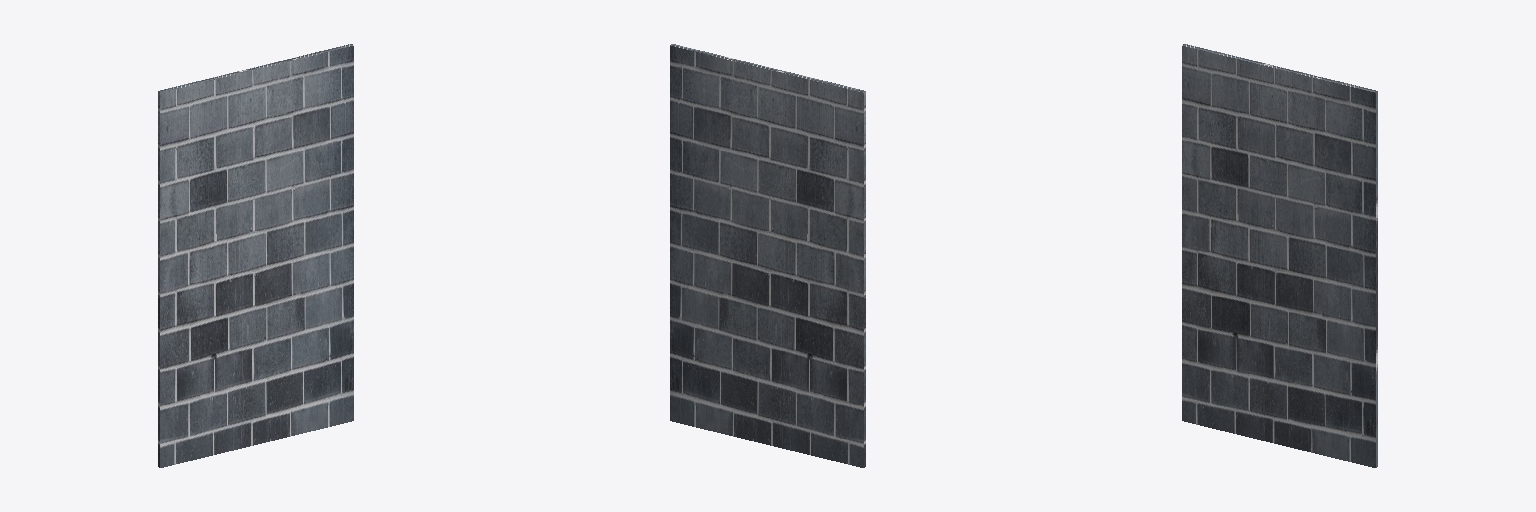
3 renders of one model, left to right at view 1: azimuth 30°, elevation 25°; view 2: azimuth 150°, elevation 25°; view 3: azimuth 330°, elevation 25°, orthographic.
Visible parts, largest first — view 1: pCube7; view 2: pCube7; view 3: pCube7.
Boxes of the visible parts, <box> form: pCube7: <box>158,44,353,467</box>; pCube7: <box>670,44,865,467</box>; pCube7: <box>1182,44,1377,467</box>.
Bounding box in the file's own units: 5.54 × 10.26 × 0.1248.
1 materials, 1 textured.